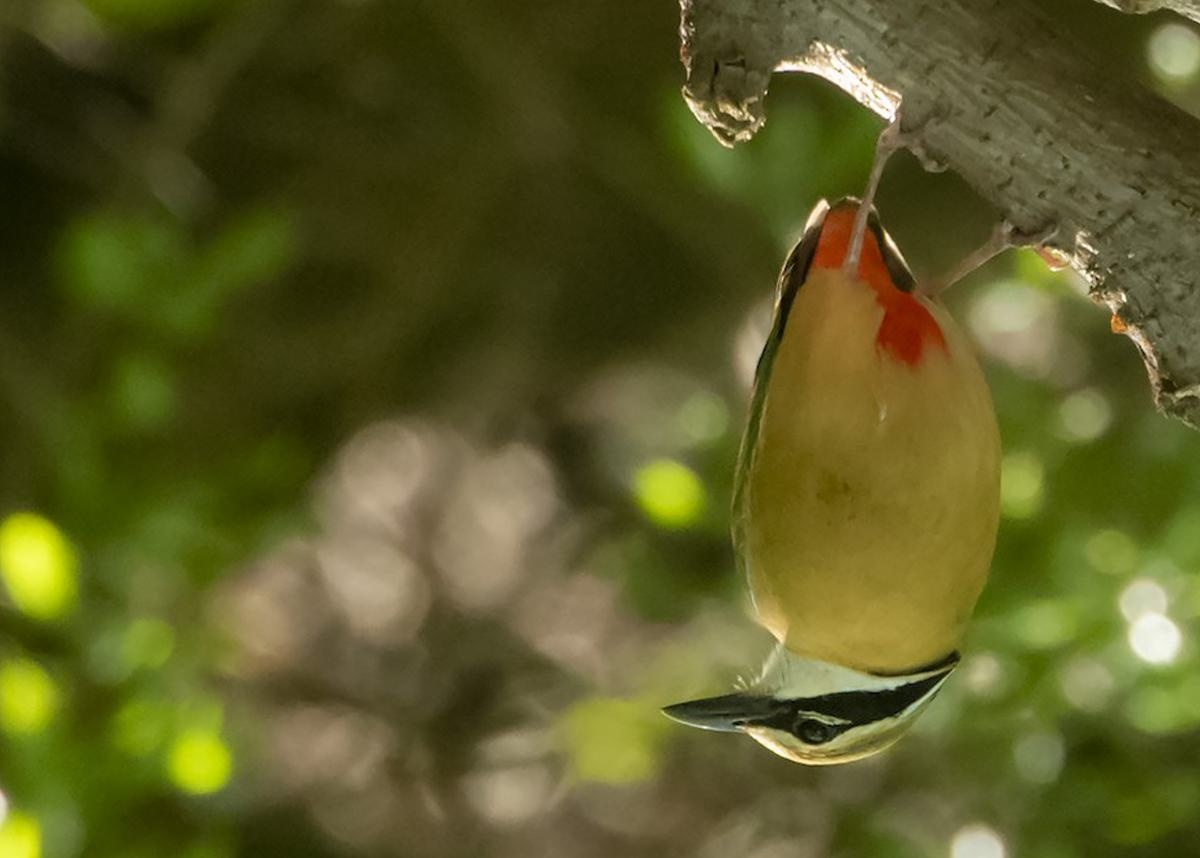pitta: (654, 224, 1057, 800)
